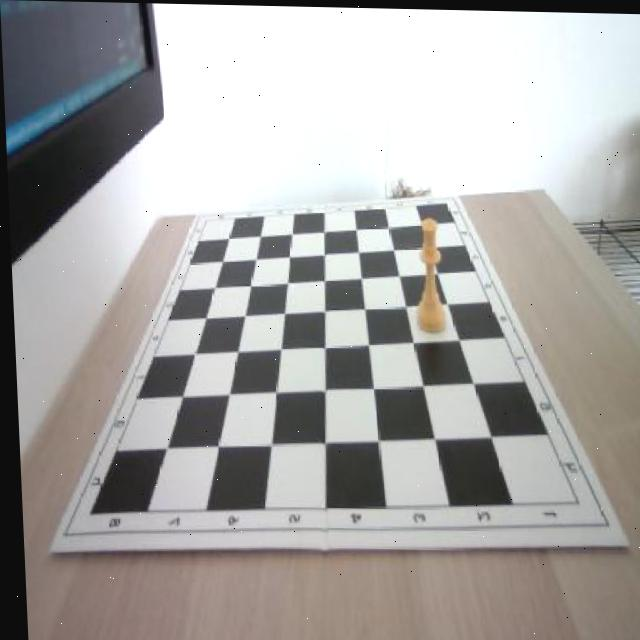white-pawn: (410, 215, 447, 332)
